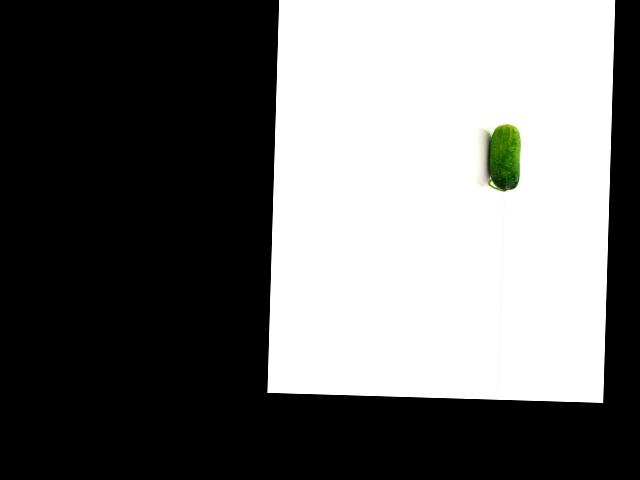cucumber: (487, 122, 521, 191)
